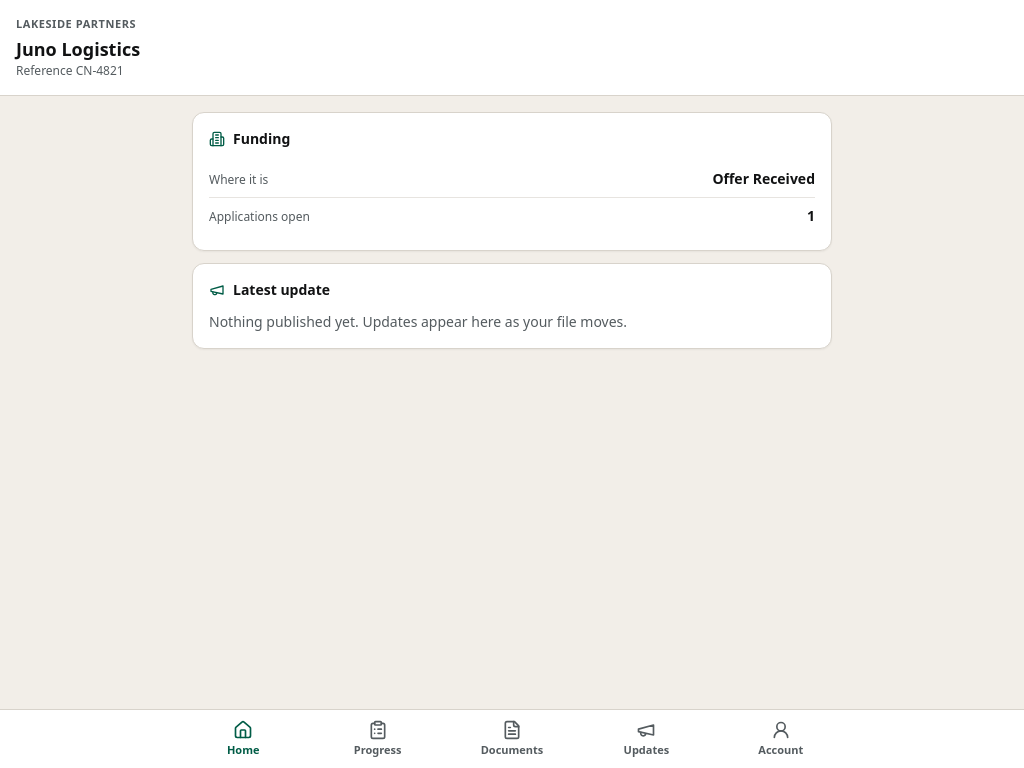
Test: moving around on a phone › tells them where to go to change their details, rather than offering an edit that would not work
This screenshot has width=1024, height=768.
Click the button "Account" at {"x": 781, "y": 739}, box [714,710,848,767]
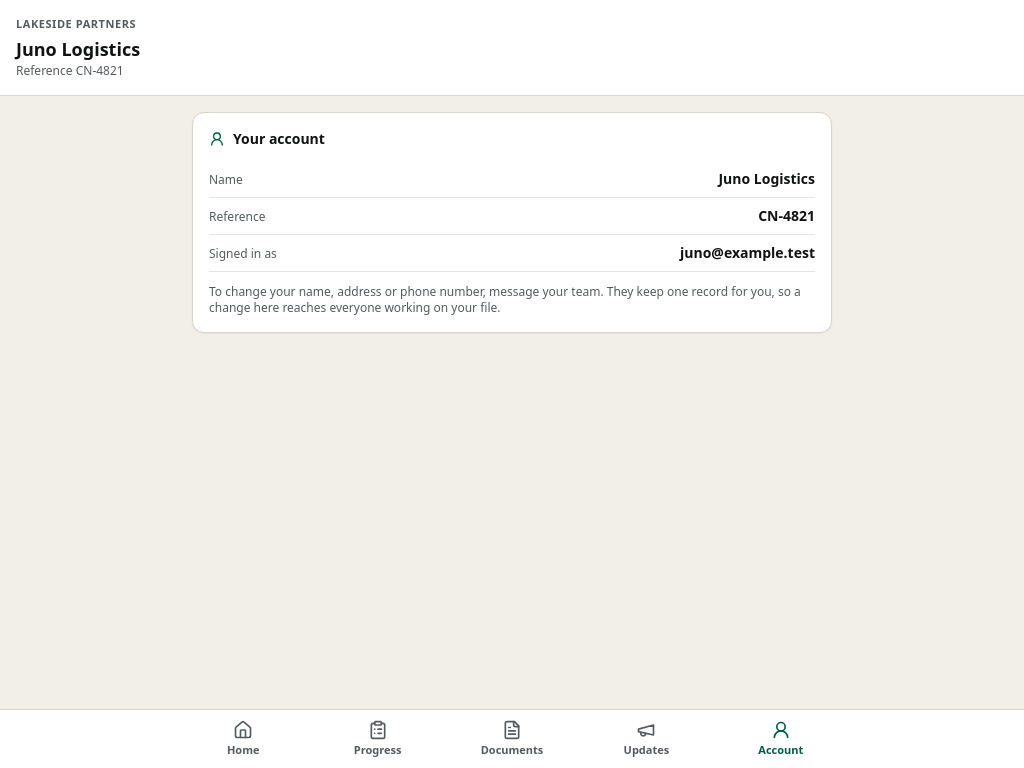
Expected: the text "juno@example.test" is shown, [680,242,815,262]
Expected: the text "message your team" is shown, [209,282,801,316]
